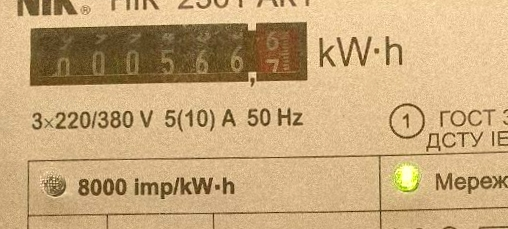0: (122, 46, 141, 76), (88, 46, 106, 76), (52, 52, 72, 76)
5: (157, 45, 176, 75)
6: (226, 42, 246, 73), (190, 45, 210, 74), (264, 28, 281, 53)
7: (264, 56, 280, 74)
9: (56, 30, 74, 51)
screen: (19, 12, 313, 96)
